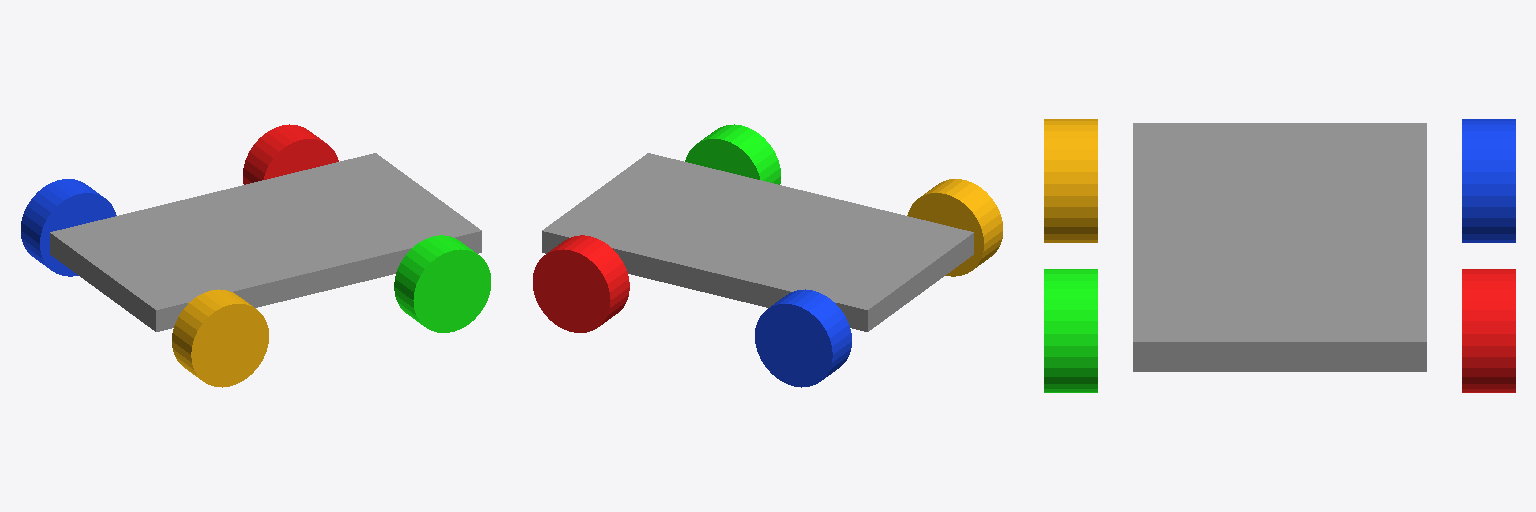
robot.urdf — robotcar_kinematic_skeleton:
<?xml version="1.0"?>
<robot name="robotcar_kinematic_skeleton">
  <material name="body"><color rgba="0.65 0.65 0.65 0.40"/></material>
  <material name="fl"><color rgba="1 0.15 0.15 1"/></material>
  <material name="fr"><color rgba="0.15 1 0.15 1"/></material>
  <material name="rl"><color rgba="0.15 0.35 1 1"/></material>
  <material name="rr"><color rgba="1 0.75 0.10 1"/></material>

  <link name="base_footprint"/>
  <link name="base_link">
    <visual>
      <origin xyz="0.0095 0 0.010"/>
      <geometry><box size="0.311 0.176 0.020"/></geometry>
      <material name="body"/>
    </visual>
  </link>
  <joint name="base_footprint_joint" type="fixed"><parent link="base_footprint"/><child link="base_link"/><origin xyz="0 0 0.035791123"/></joint>

  <link name="front_left_wheel_link"><visual><origin rpy="1.570796327 0 0"/><geometry><cylinder radius="0.037230282" length="0.032000005"/></geometry><material name="fl"/></visual></link>
  <joint name="front_left_wheel_joint" type="continuous"><parent link="base_link"/><child link="front_left_wheel_link"/><origin xyz="0.106000002 0.125 0"/><axis xyz="0 1 0"/></joint>

  <link name="front_right_wheel_link"><visual><origin rpy="1.570796327 0 0"/><geometry><cylinder radius="0.037230282" length="0.032000005"/></geometry><material name="fr"/></visual></link>
  <joint name="front_right_wheel_joint" type="continuous"><parent link="base_link"/><child link="front_right_wheel_link"/><origin xyz="0.106000002 -0.125 0"/><axis xyz="0 1 0"/></joint>

  <link name="rear_left_wheel_link"><visual><origin rpy="1.570796327 0 0"/><geometry><cylinder radius="0.037230282" length="0.032000005"/></geometry><material name="rl"/></visual></link>
  <joint name="rear_left_wheel_joint" type="continuous"><parent link="base_link"/><child link="rear_left_wheel_link"/><origin xyz="-0.106000002 0.125 0"/><axis xyz="0 1 0"/></joint>

  <link name="rear_right_wheel_link"><visual><origin rpy="1.570796327 0 0"/><geometry><cylinder radius="0.037230282" length="0.032000005"/></geometry><material name="rr"/></visual></link>
  <joint name="rear_right_wheel_joint" type="continuous"><parent link="base_link"/><child link="rear_right_wheel_link"/><origin xyz="-0.106000002 -0.125 0"/><axis xyz="0 1 0"/></joint>
</robot>

--- What the picture shows (computed from the rendered views, not written in the file) ---
The picture shows the robot from 3 angles, left to right: view 1: azimuth 30°, elevation 25°; view 2: azimuth 150°, elevation 25°; view 3: azimuth 270°, elevation 25°; orthographic projection.
Model robotcar_kinematic_skeleton with 6 links and 5 joints (4 continuous, 1 fixed), rooted at base_footprint, posed all joints at 0.
Visible links, largest first — view 1: base_link, rear_right_wheel_link, front_right_wheel_link, rear_left_wheel_link, front_left_wheel_link; view 2: base_link, rear_left_wheel_link, front_left_wheel_link, rear_right_wheel_link, front_right_wheel_link; view 3: base_link, front_left_wheel_link, front_right_wheel_link, rear_left_wheel_link, rear_right_wheel_link.
Boxes of the visible links, <box> form: base_link: <box>50,153,481,331</box>; rear_right_wheel_link: <box>172,289,268,387</box>; front_right_wheel_link: <box>394,235,490,332</box>; rear_left_wheel_link: <box>21,179,116,276</box>; front_left_wheel_link: <box>243,124,338,184</box>; base_link: <box>542,153,973,331</box>; rear_left_wheel_link: <box>755,289,851,387</box>; front_left_wheel_link: <box>533,235,629,332</box>; rear_right_wheel_link: <box>907,179,1002,276</box>; front_right_wheel_link: <box>685,124,780,184</box>; base_link: <box>1133,123,1426,371</box>; front_left_wheel_link: <box>1462,269,1515,392</box>; front_right_wheel_link: <box>1044,269,1097,392</box>; rear_left_wheel_link: <box>1462,119,1515,242</box>; rear_right_wheel_link: <box>1044,119,1097,242</box>.
Bounding box of the posed robot: 0.311 × 0.282 × 0.0745 m (x, y, z).
Geometry: primitives only (box / cylinder / sphere), no mesh files.
